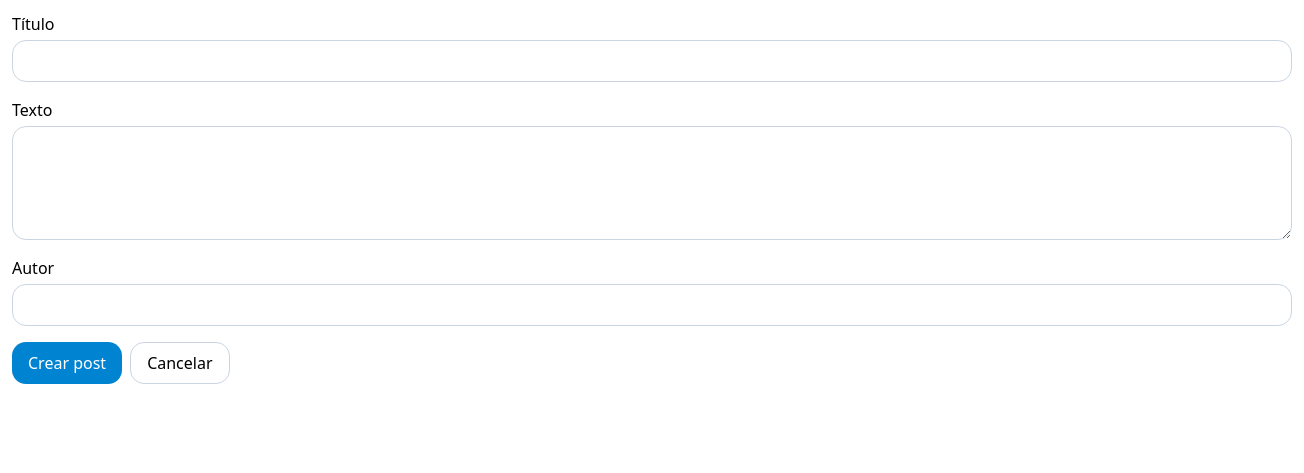
Test: PostForm › validation › does not submit an empty form and shows each message linked to its field
Click the button "Crear post": (67, 363) x1=12 y1=342 x2=122 y2=384
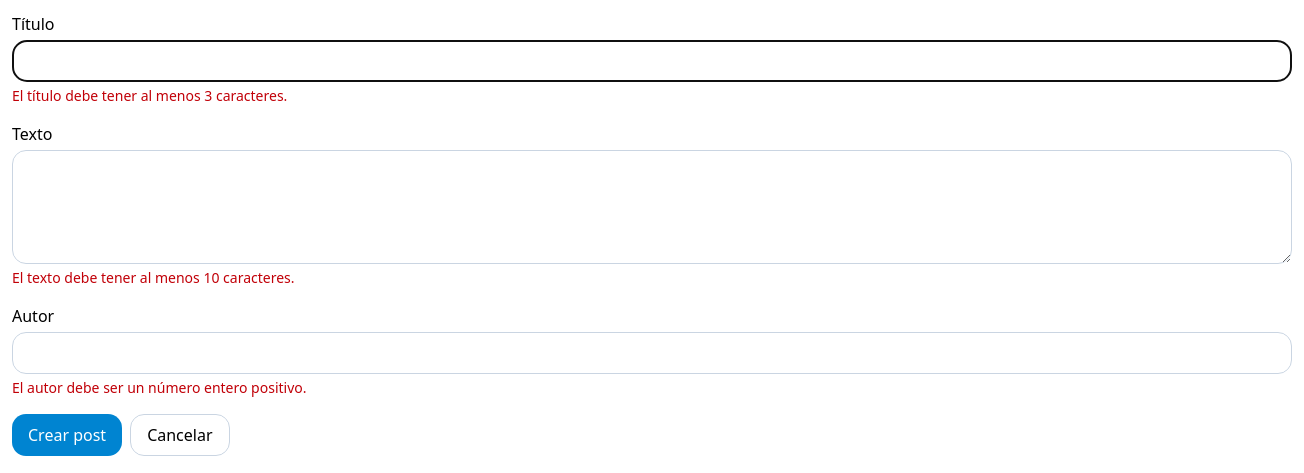
Expected: the text "El título debe tener al menos 3 caracteres." is shown, x1=12 y1=86 x2=287 y2=105
Expected: the text "El texto debe tener al menos 10 caracteres." is shown, x1=12 y1=268 x2=294 y2=287
Expected: the text "El autor debe ser un número entero positivo." is shown, x1=12 y1=378 x2=306 y2=397
